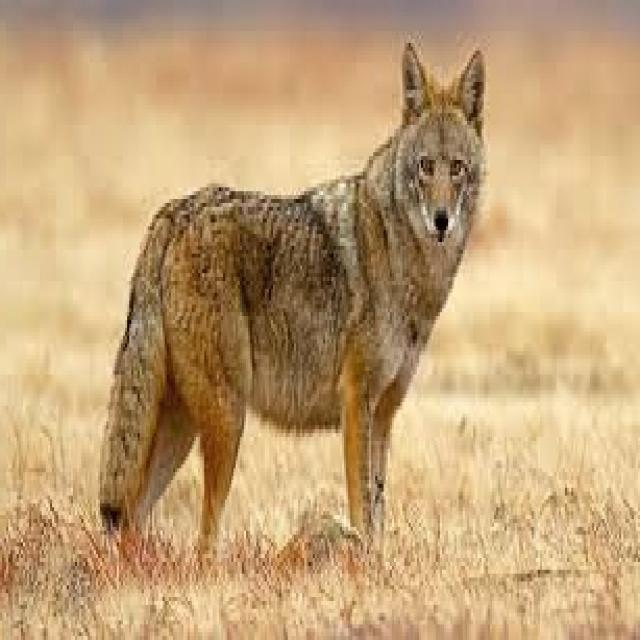coyote: (104, 43, 484, 554)
